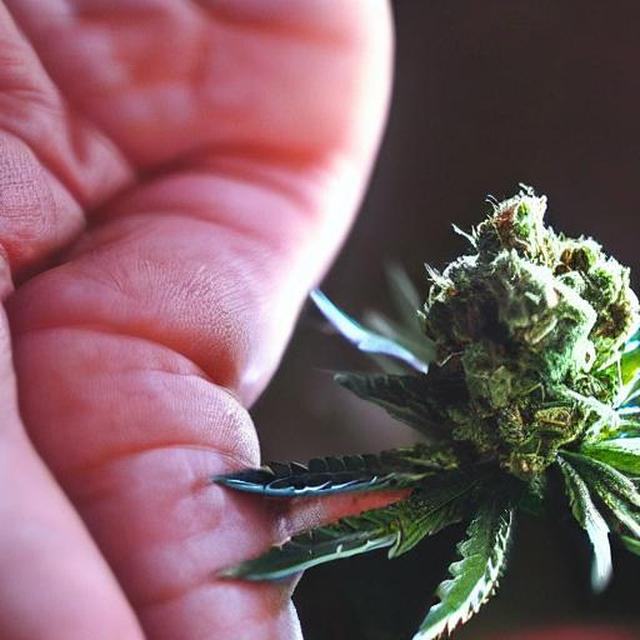Marijuana Plant: (262, 156, 639, 637)
